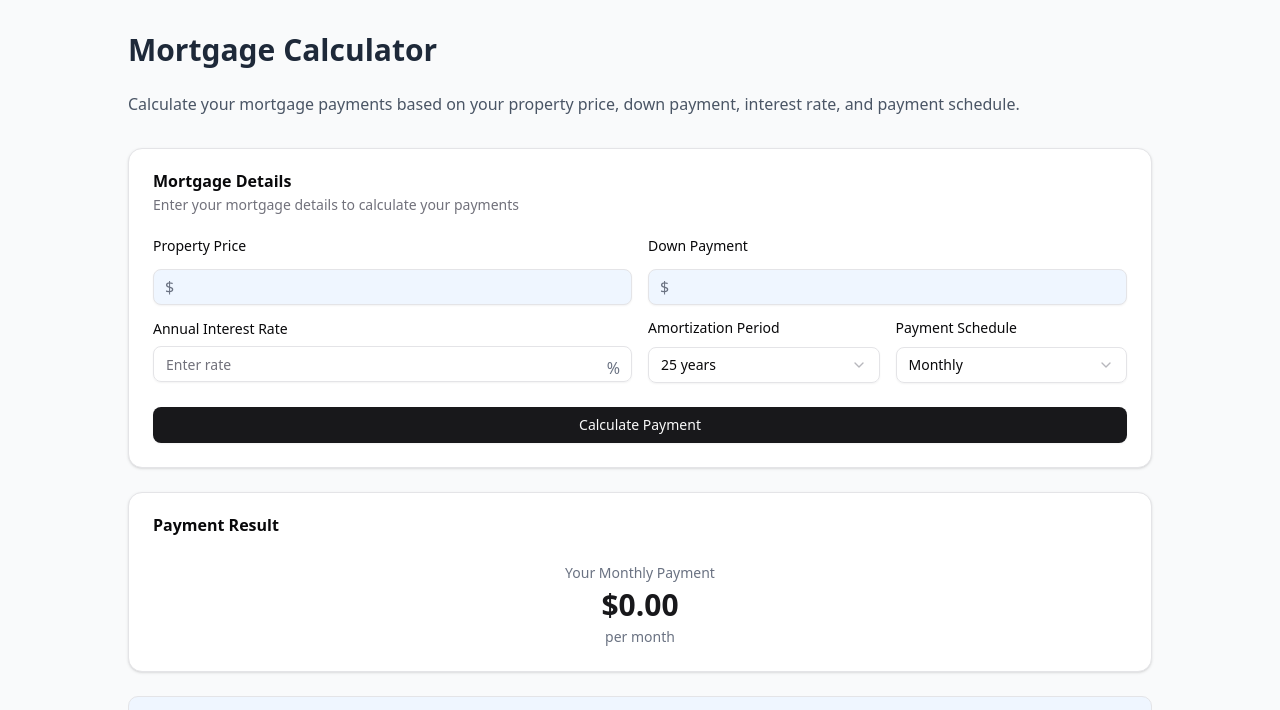
Test case: Error Handling › should validate required fields
The image size is (1280, 710).
Step 1. Click the submit button → (640, 425), box top-left (153, 407), bottom-right (1127, 443)
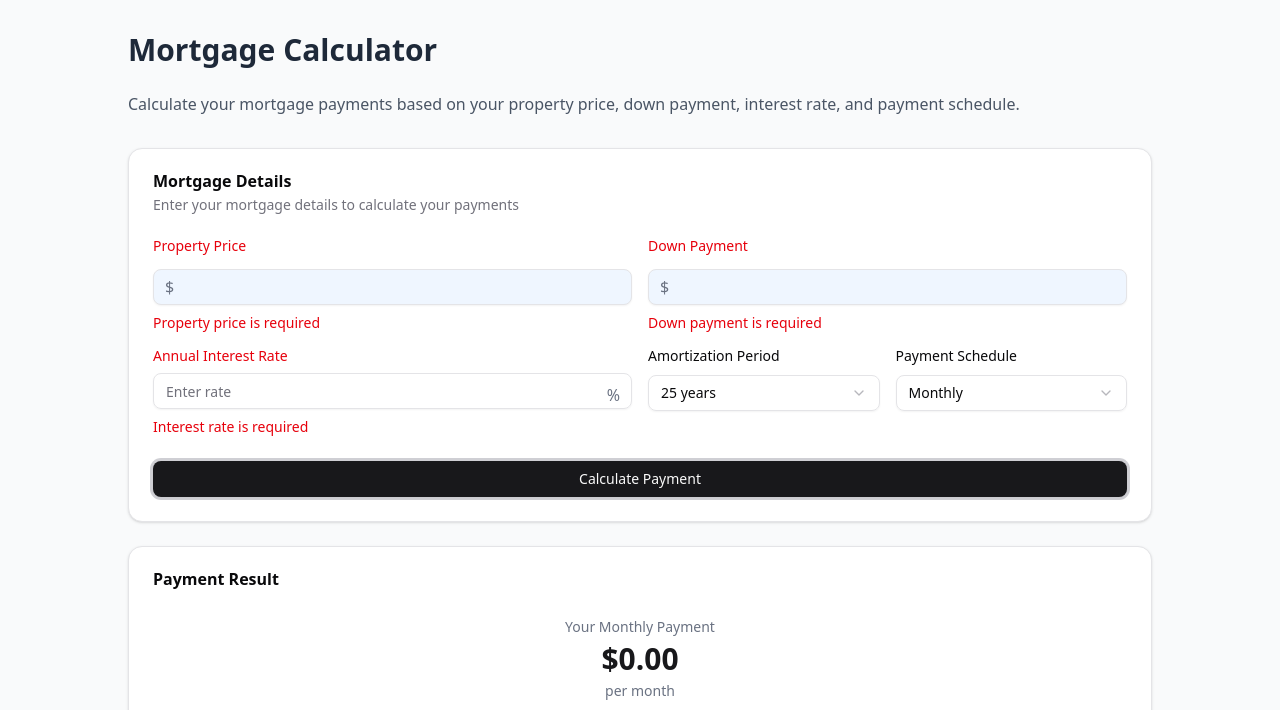
Expected: the text "Property price is required" is shown, top-left (153, 313), bottom-right (320, 332)
Expected: the text "Down payment is required" is shown, top-left (648, 313), bottom-right (822, 332)
Expected: the text "Interest rate is required" is shown, top-left (153, 417), bottom-right (308, 436)
